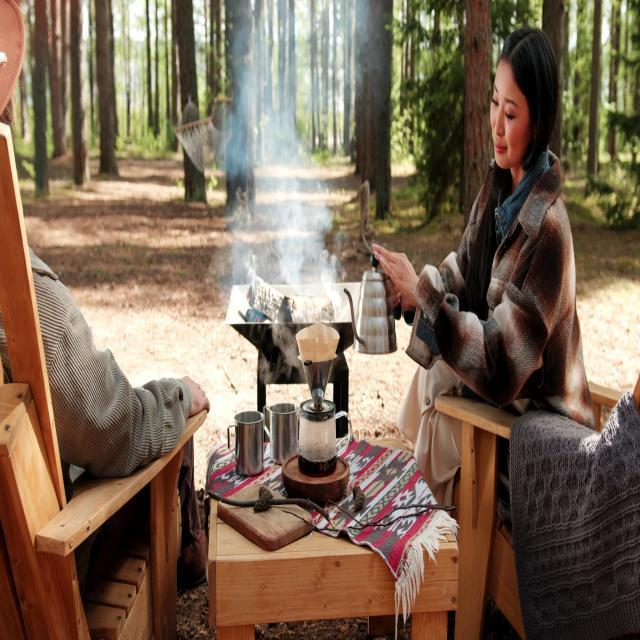Smoke: (180, 1, 348, 326)
